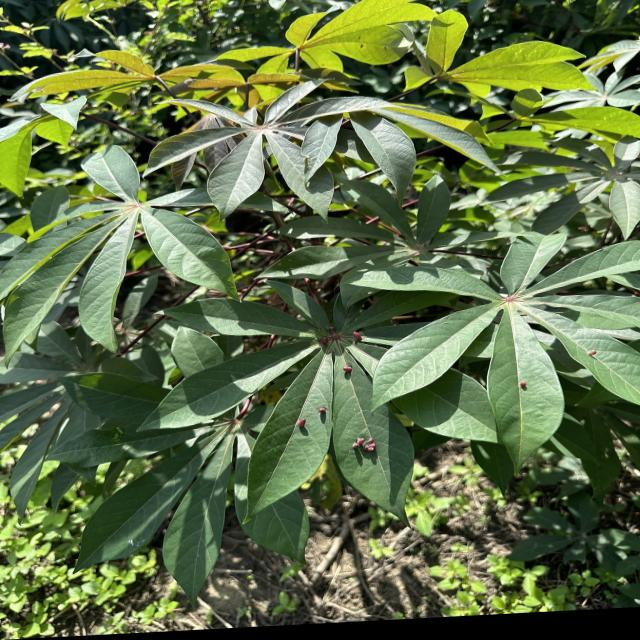Mosca: (286, 406, 347, 457), (347, 426, 404, 479), (308, 310, 353, 361), (337, 357, 380, 402), (579, 339, 611, 384), (349, 318, 380, 358), (509, 372, 536, 398)
